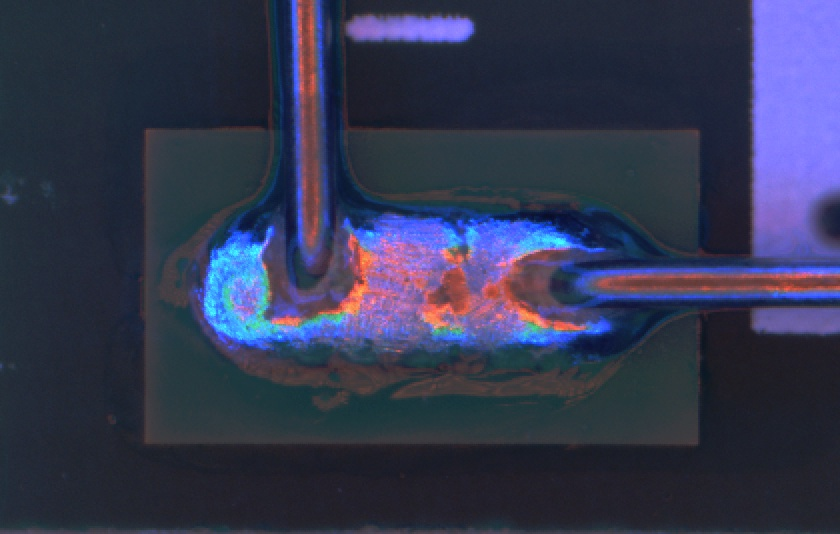spring: (524, 251, 840, 318), (287, 1, 340, 315)
spring_pin: (192, 217, 670, 361)
